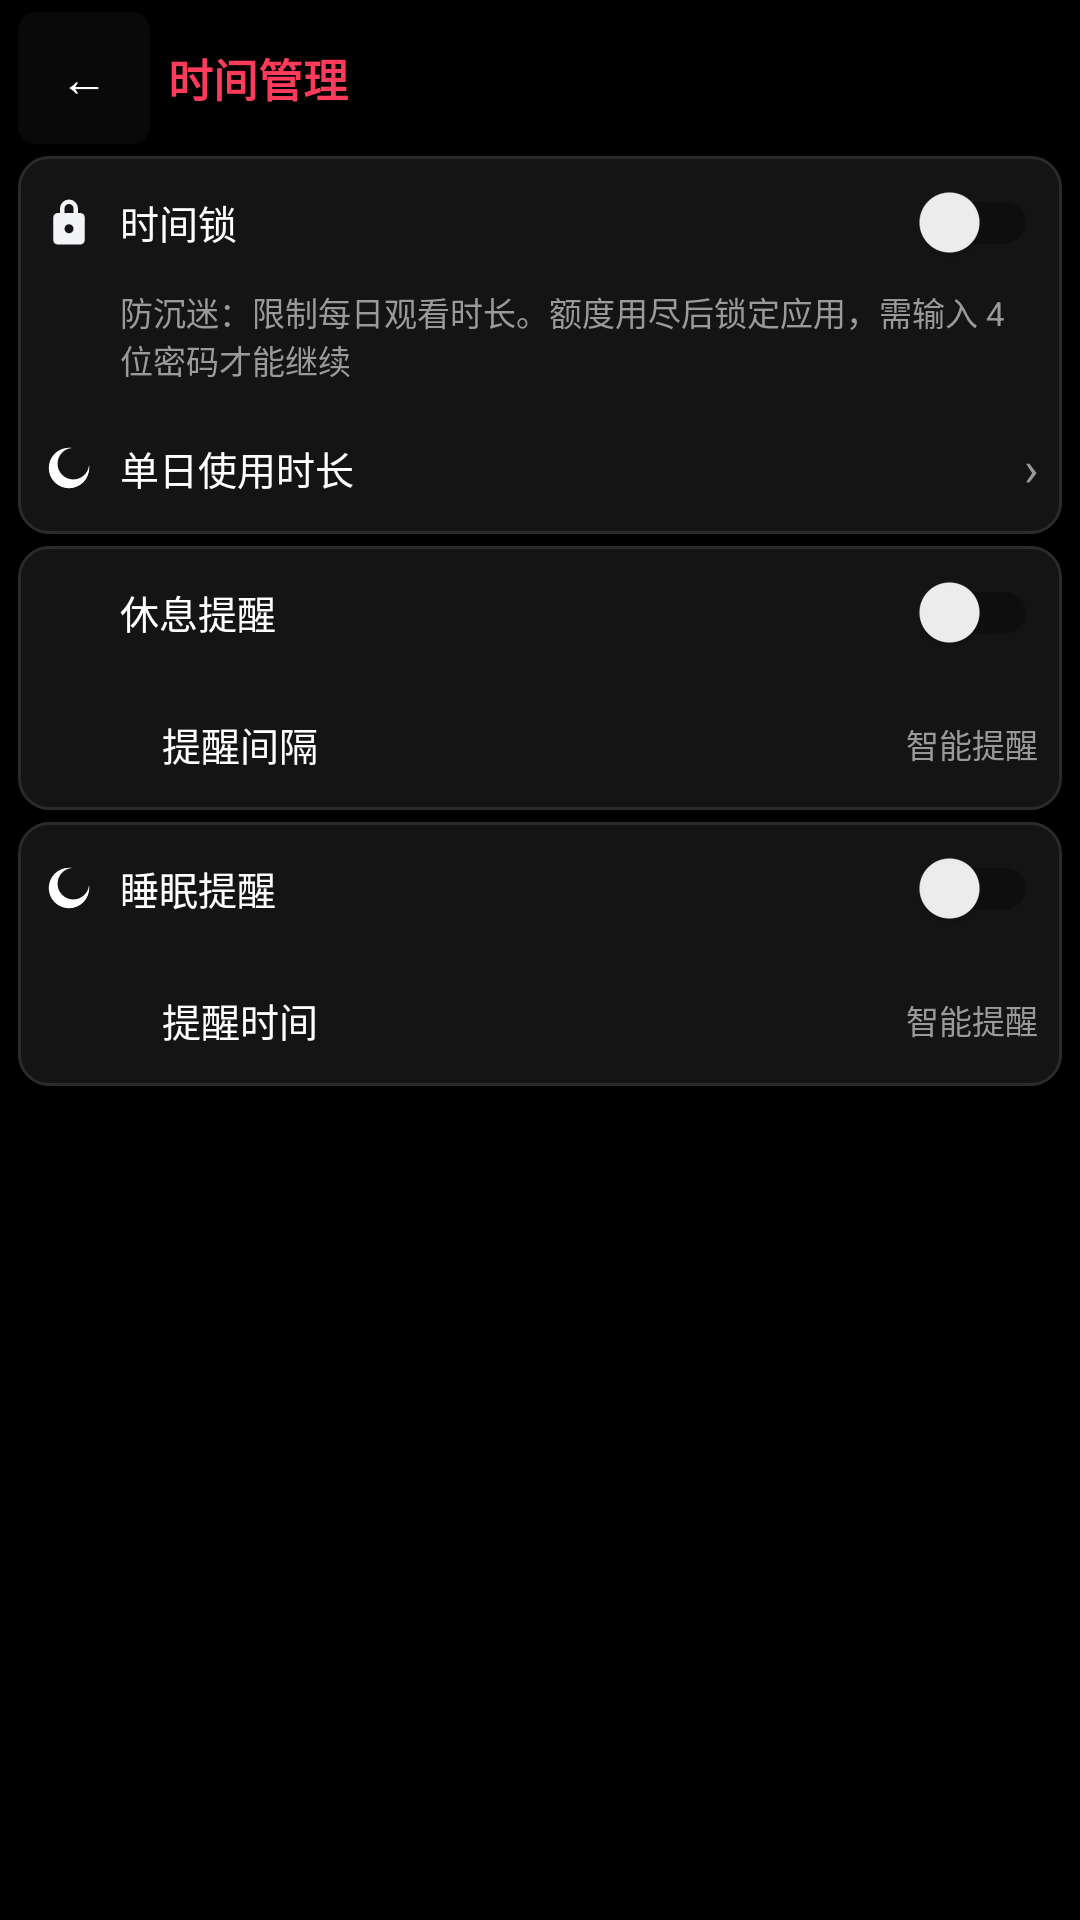

Locate icon controls on the screen. Image size 1080 × 1920, boxes as Rect(x1, y1, x2, y2).
lock: Rect(53, 199, 85, 245)
